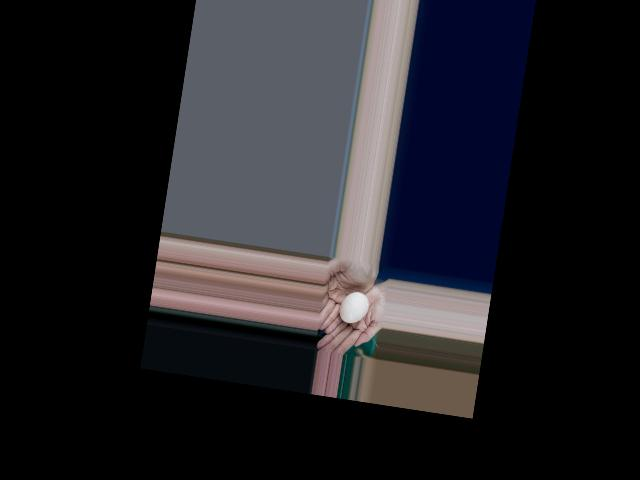egg: (338, 290, 369, 325)
